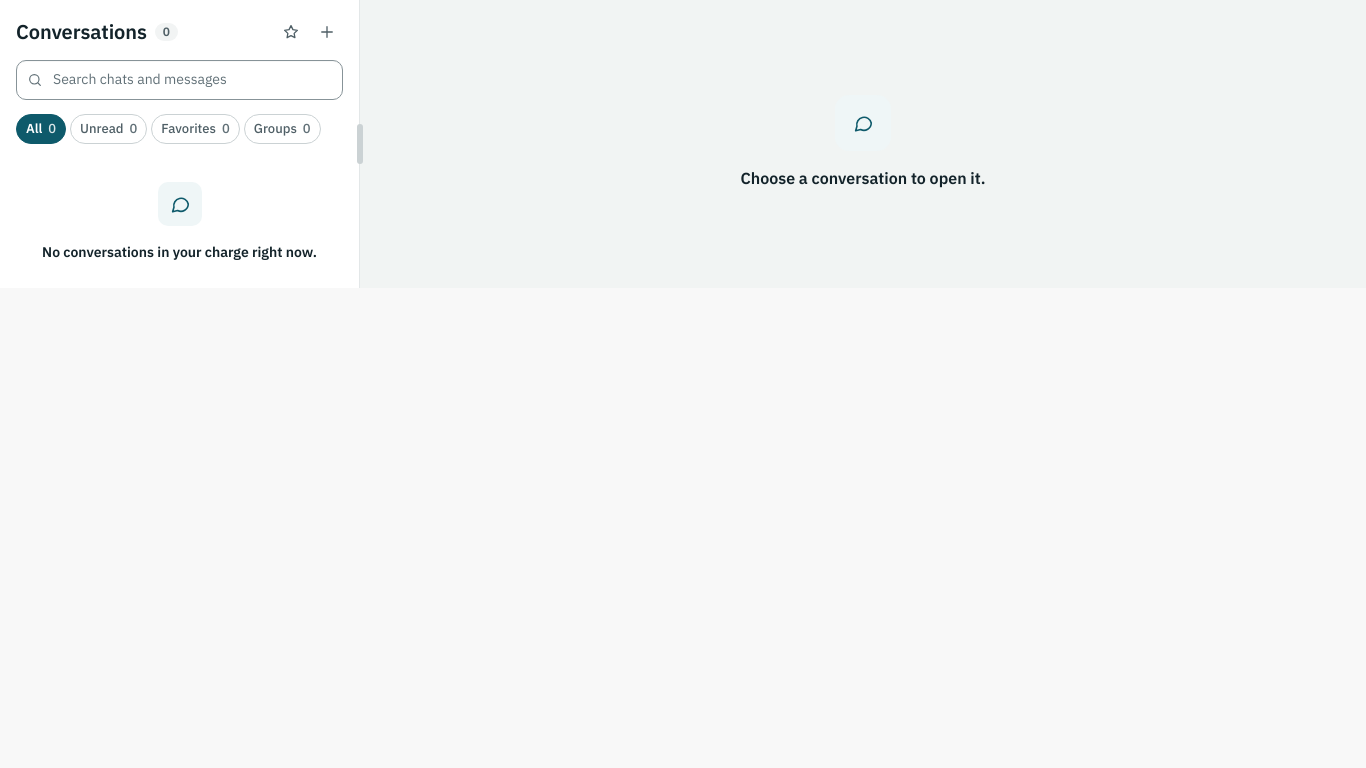
Test: creating a family group › one supervisor per group: choosing a child disables the other supervisor's children
Click the button named "New chat or group".
click(327, 32)  # box [311,16,343,48]
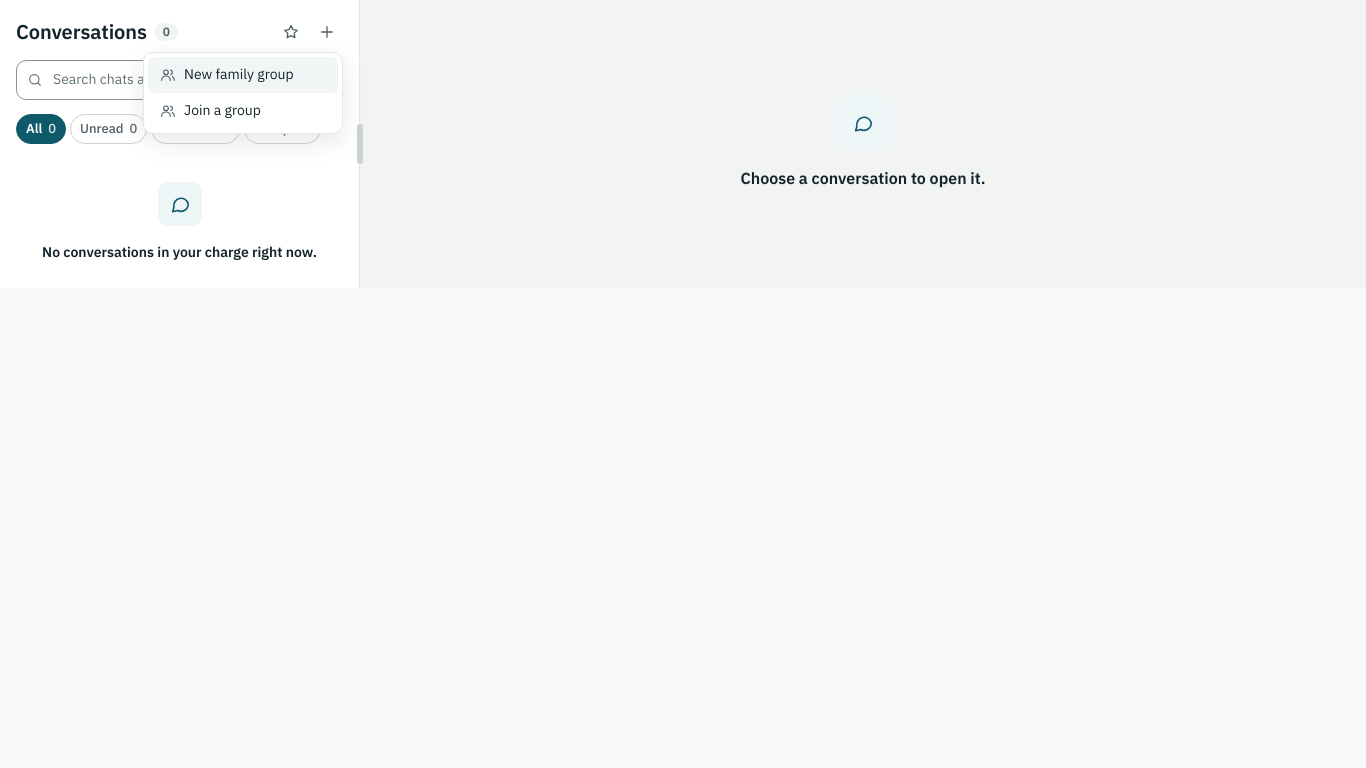
Click the menu item "New family group".
click(243, 75)  # box [148,57,338,93]
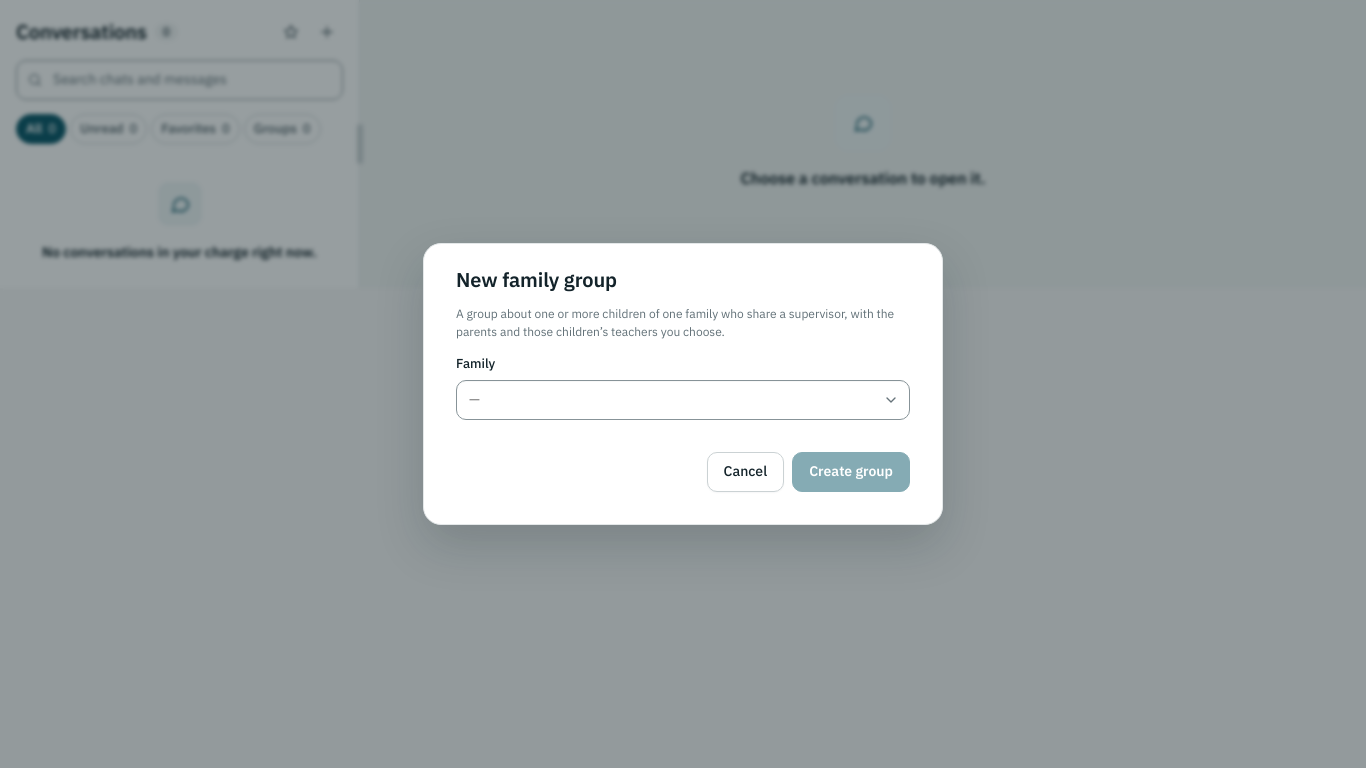
Click the dropdown labelled "Family".
click(683, 400)  # box [456,380,910,420]
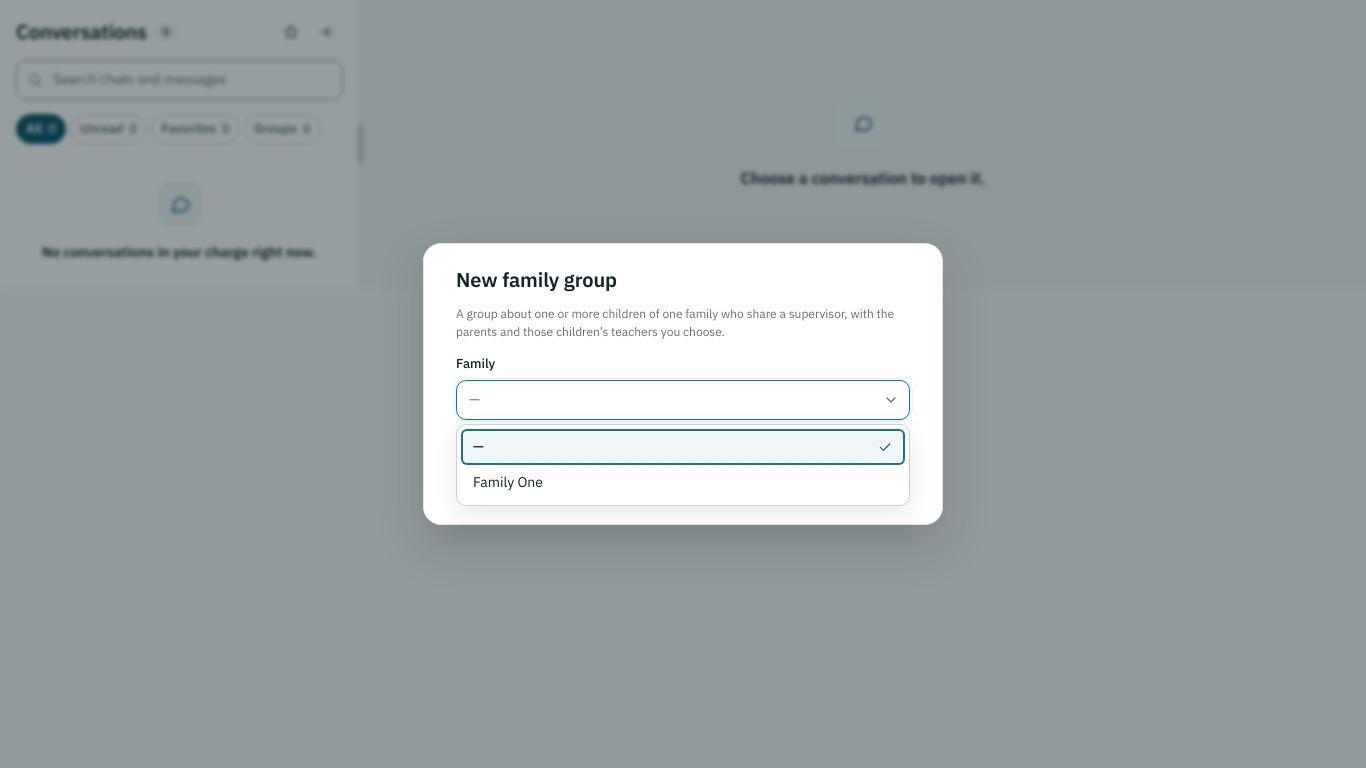
Click the option "Family One".
click(508, 483)  # box [473,472,543,493]
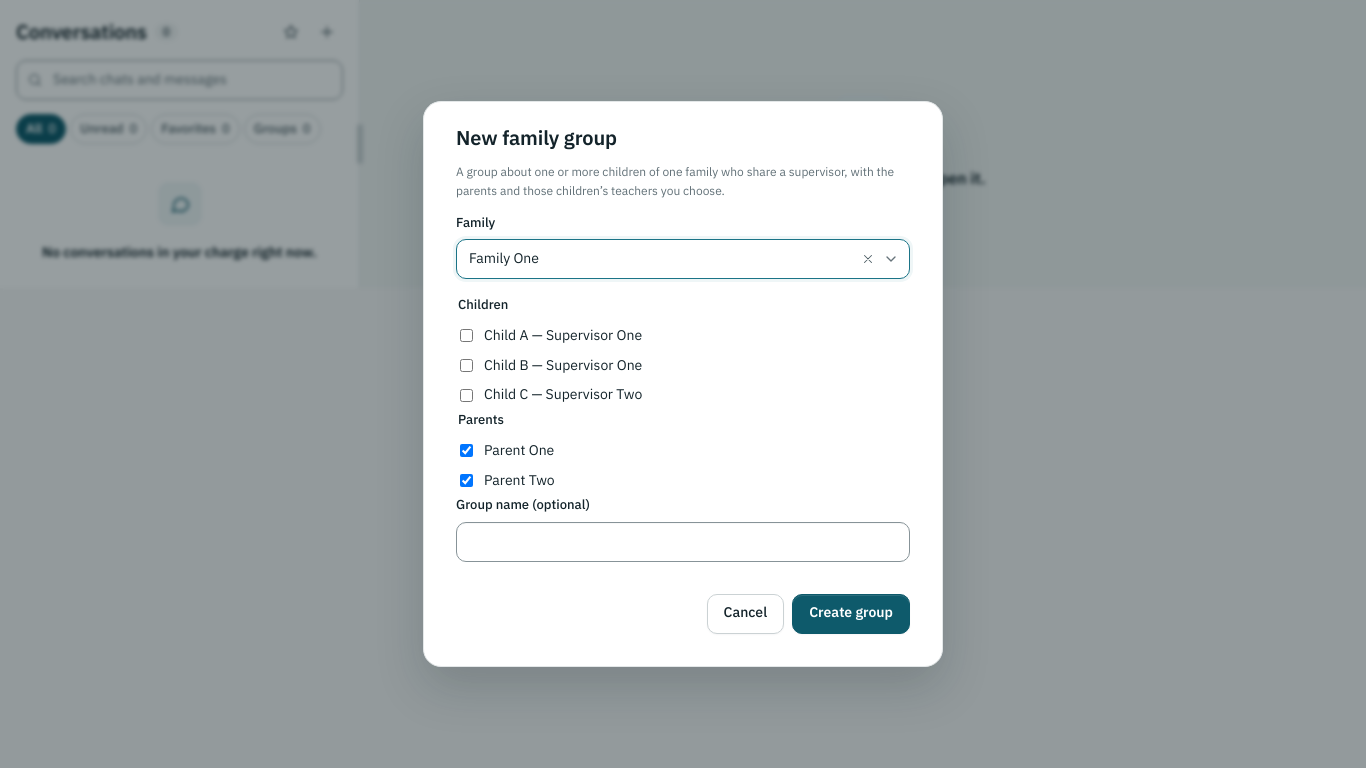
Click the checkbox labelled "Child A — Supervisor One".
click(466, 336)  # box [460,329,473,342]
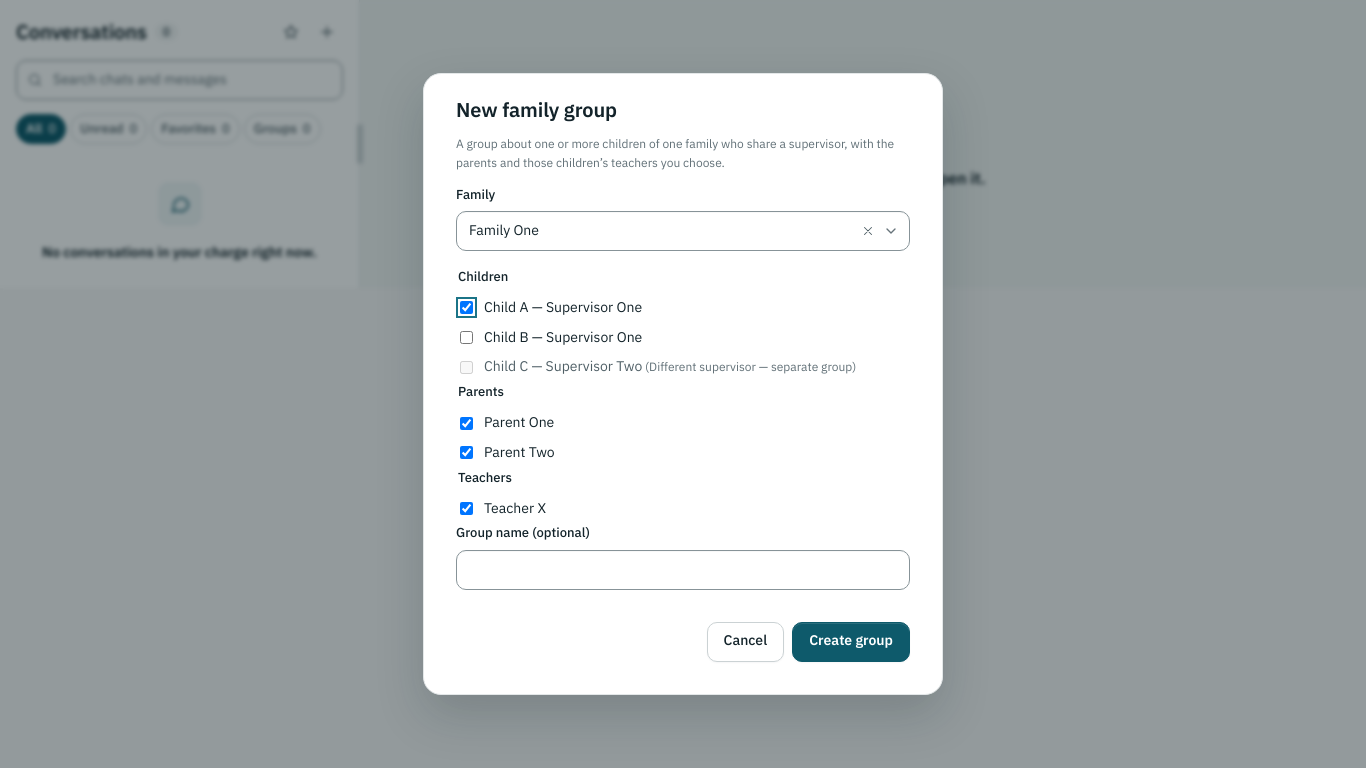
Result: the checkbox labelled "Child B — Supervisor One" is enabled at [460,331,473,344]
Result: the checkbox labelled "Child C" is disabled at [460,361,473,374]
Result: the text "(Different supervisor — separate group)" is shown at [642,358,856,376]
